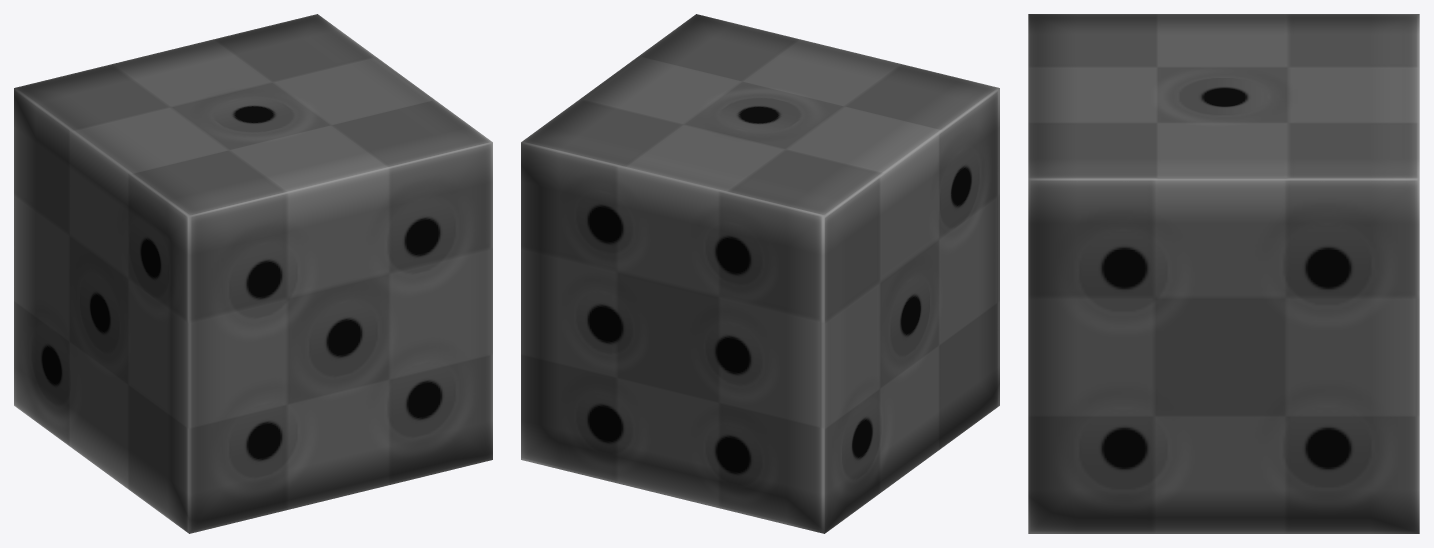
Rendered from dice768.FBX.
3 views of the same model, side by side, from view 1: azimuth 30°, elevation 25°; view 2: azimuth 150°, elevation 25°; view 3: azimuth 270°, elevation 25° (orthographic). The views are drawn at different scales.
Parts seen in each view (by area): view 1: Dice; view 2: Dice; view 3: Dice.
Part boxes in pixels (box(x1,y1,x2,y2)): Dice: box(14, 14, 492, 533); Dice: box(521, 14, 999, 533); Dice: box(1028, 14, 1419, 533).
Bounding box in the file's own units: 100 × 100 × 100.
